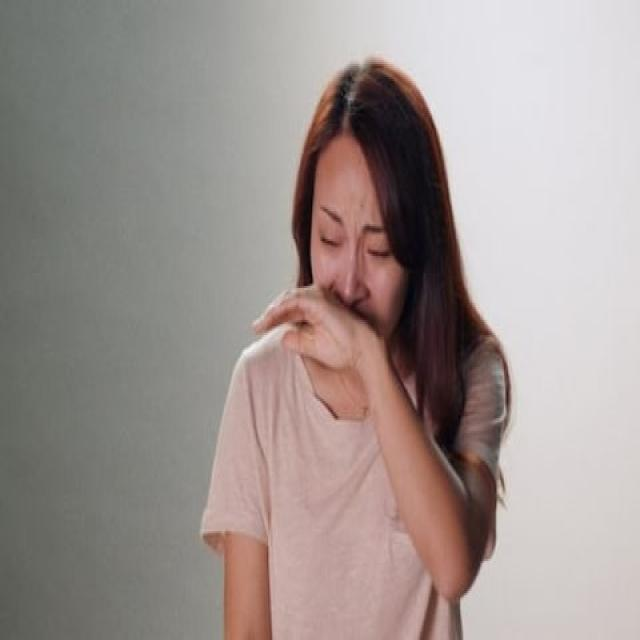mobile_phonerotation: (199, 55, 512, 638)
